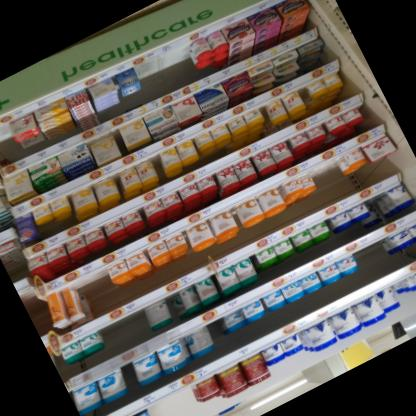empty_space: (129, 43, 201, 104), (98, 308, 155, 357), (306, 155, 356, 207), (76, 267, 125, 319), (350, 237, 400, 284), (17, 283, 55, 335), (145, 385, 207, 416), (0, 124, 18, 167)
